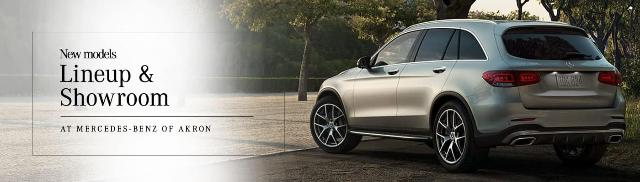benz: (309, 19, 626, 172)
